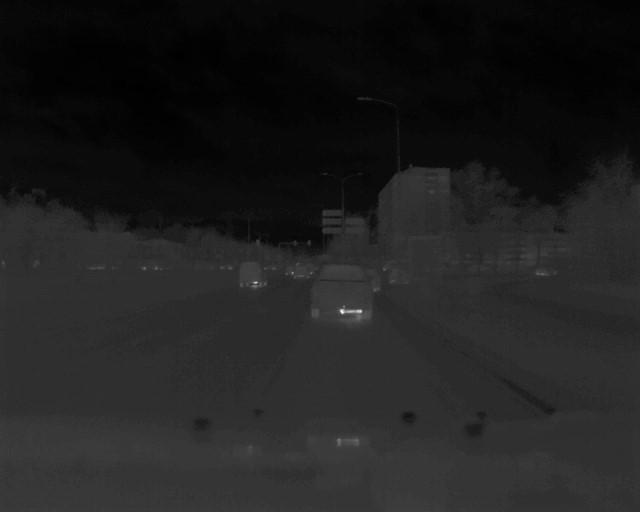car: (306, 257, 385, 327), (238, 257, 270, 289), (289, 262, 310, 281)
